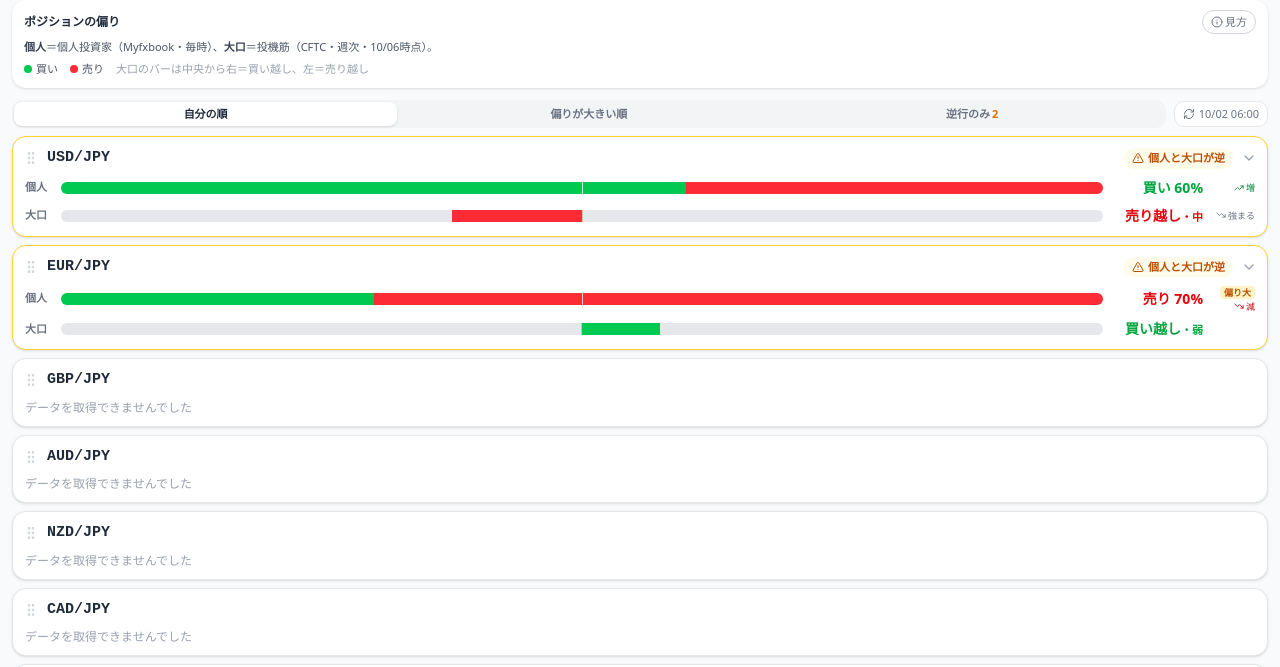
Scenario: OrderFlow › 記録上の最大取引量と日時・レートはカードを開くと表示する
Expected: the text "USD/JPY" is shown, [47,147,110,170]
Expected: the text "USD/JPY" does not show "157.84"
Click the button named "USD/JPY の詳細を開く".
click(1249, 158)  # box [1239,148,1259,168]
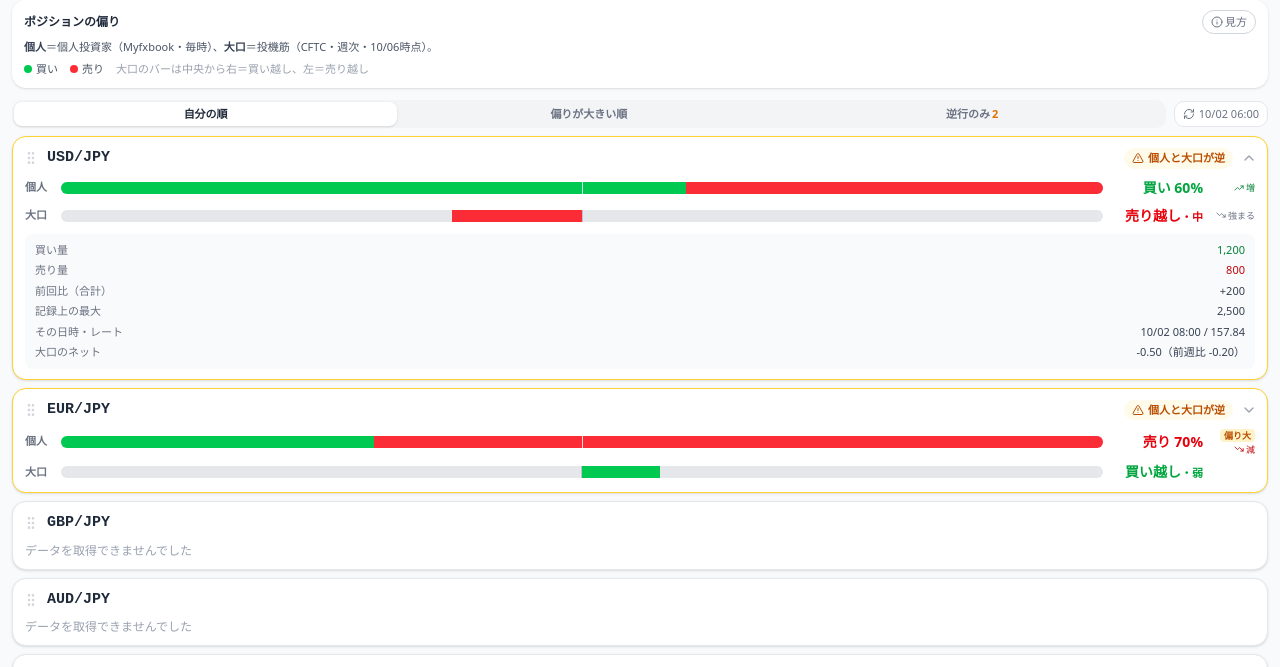
Expected: the list item "USD/JPY" shows "157.84", [1201,324,1245,339]
